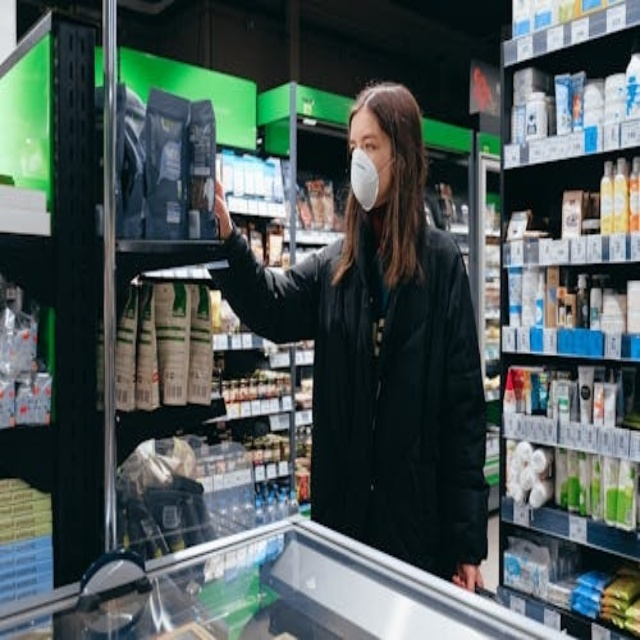Mascara: (349, 147, 385, 211)
Sin_gafas: (347, 127, 388, 161)
Sin_guantes: (447, 557, 486, 594)
